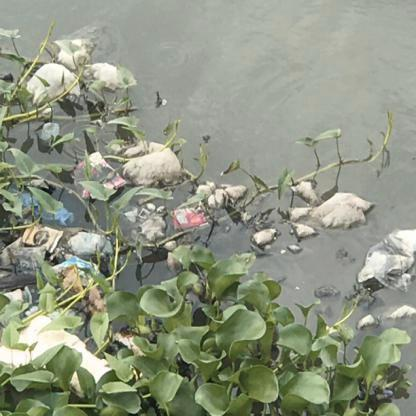Trash: (290, 170, 374, 252), (357, 229, 415, 296), (66, 147, 128, 209), (24, 62, 87, 112), (127, 139, 179, 182), (166, 198, 213, 238), (20, 222, 68, 256), (67, 225, 114, 257), (90, 56, 132, 86), (56, 38, 92, 66), (138, 212, 166, 247)
